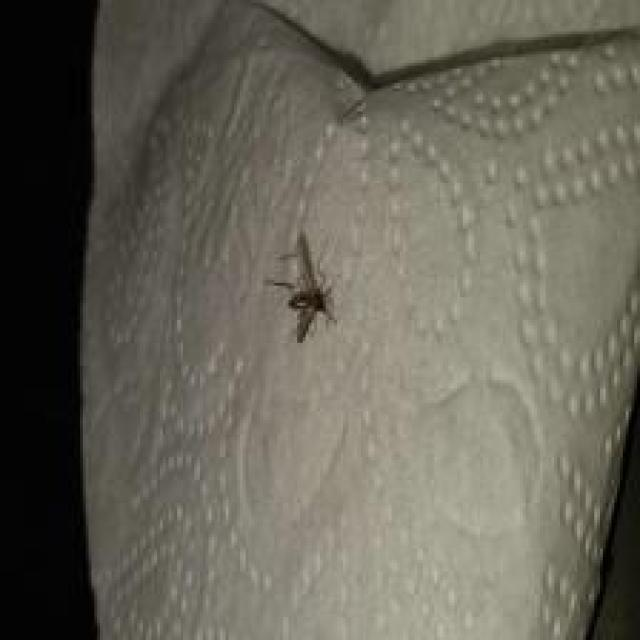Culex: (270, 230, 339, 344)
